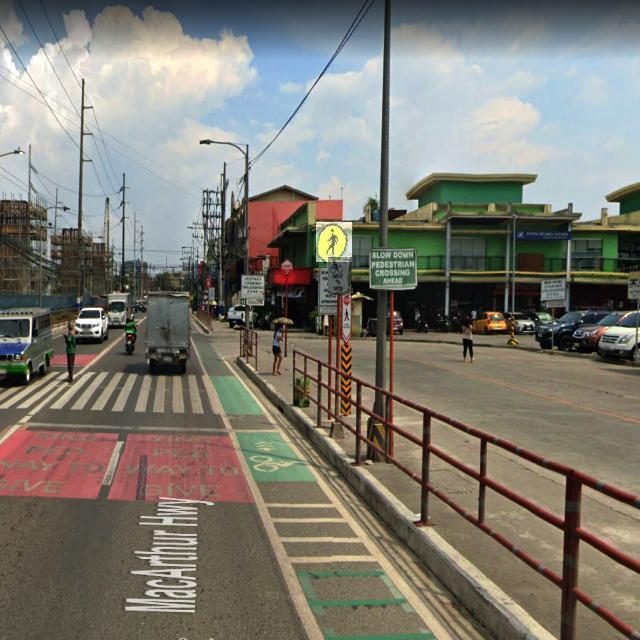bike lane: (328, 257, 352, 296)
pedestrian crossing: (316, 222, 352, 262)
